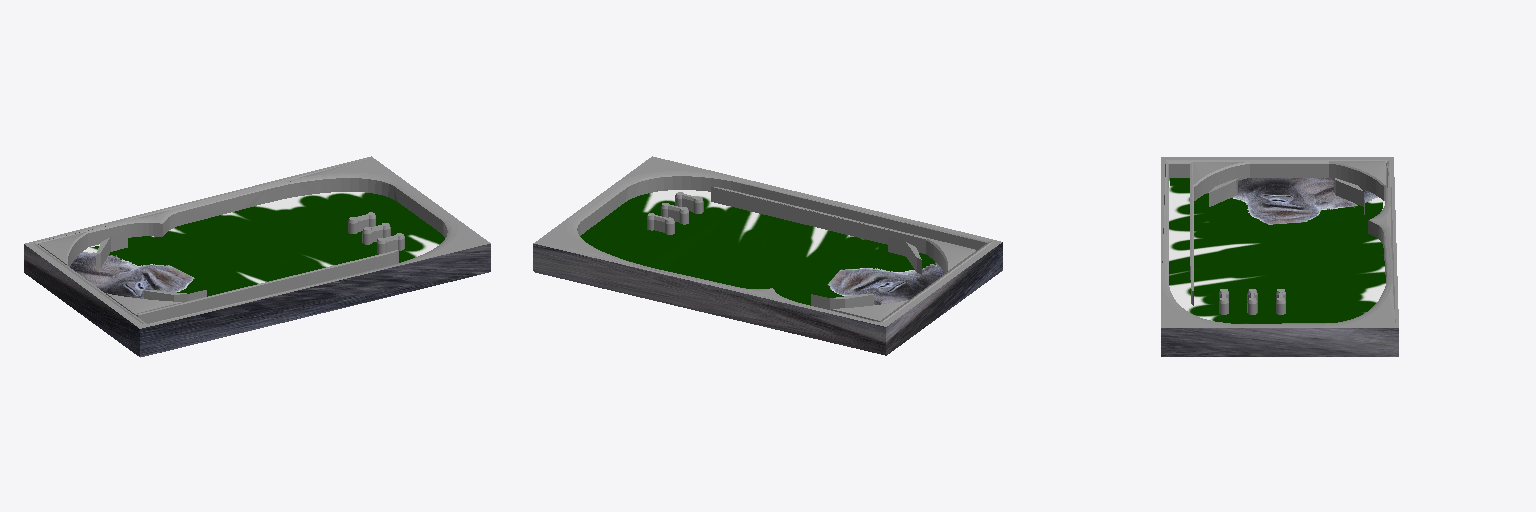
The picture shows the model from 3 angles: view 1: azimuth 30°, elevation 25°; view 2: azimuth 150°, elevation 25°; view 3: azimuth 270°, elevation 25°; orthographic projection.
Visible parts, largest first — view 1: Board_Cube.006, Left_Cube.002, Right_Cube.001, leftdivider_Cube, rightdivider_Cube.003; view 2: Board_Cube.006, Right_Cube.001, leftdivider_Cube, Left_Cube.002, rightdivider_Cube.003; view 3: Board_Cube.006, Left_Cube.002, Right_Cube.001, leftdivider_Cube.
Boxes of the visible parts, <box> form: Board_Cube.006: <box>24,156,490,357</box>; Left_Cube.002: <box>38,232,87,266</box>; Right_Cube.001: <box>106,293,183,314</box>; leftdivider_Cube: <box>96,232,127,269</box>; rightdivider_Cube.003: <box>144,290,206,301</box>; Board_Cube.006: <box>533,156,1002,355</box>; Right_Cube.001: <box>926,239,975,273</box>; leftdivider_Cube: <box>811,294,873,309</box>; Left_Cube.002: <box>831,300,908,321</box>; rightdivider_Cube.003: <box>888,237,921,274</box>; Board_Cube.006: <box>1161,157,1398,356</box>; Left_Cube.002: <box>1329,161,1385,200</box>; Right_Cube.001: <box>1193,162,1249,200</box>; leftdivider_Cube: <box>1334,178,1364,214</box>.
Size of the model in its own units: 28.4 by 2.38 by 16.7.
12 materials, 1 textured.